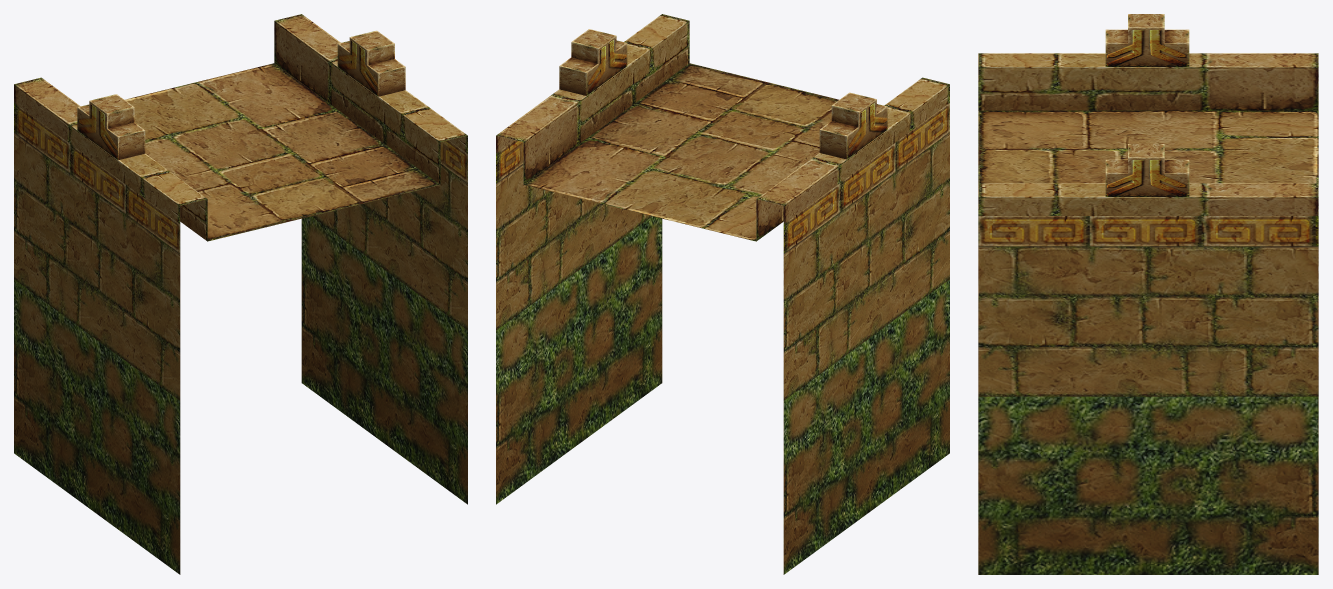
The model's file is TempleRoad01.FBX.
3 renders of one model, left to right at view 1: azimuth 30°, elevation 25°; view 2: azimuth 150°, elevation 25°; view 3: azimuth 270°, elevation 25°, orthographic. The views are drawn at different scales.
Visible parts, largest first — view 1: TempleRoad01; view 2: TempleRoad01; view 3: TempleRoad01.
Part boxes in pixels (x1,y1,x2,y2): TempleRoad01: (14,14,467,574); TempleRoad01: (496,14,949,574); TempleRoad01: (978,14,1318,574).
Size of the model in its own units: 500 by 677 by 500.
